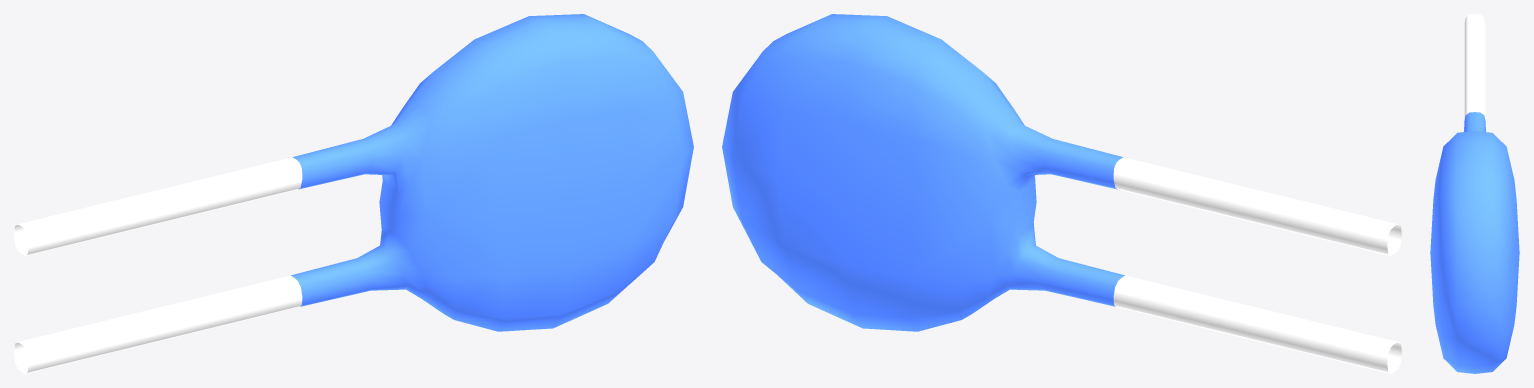
The model's file is capacitor.glb.
3 views of the same model, side by side, from view 1: azimuth 30°, elevation 25°; view 2: azimuth 150°, elevation 25°; view 3: azimuth 270°, elevation 25° (orthographic). The views are drawn at different scales.
Visible parts, largest first — view 1: Circle; view 2: Circle; view 3: Circle.
Boxes of the visible parts, box(x1,y1,x2,y2) form: Circle: box(14, 14, 693, 373); Circle: box(722, 14, 1401, 373); Circle: box(1430, 14, 1519, 373).
Bounding box in the file's own units: 0.8195 × 0.355 × 0.1305.
